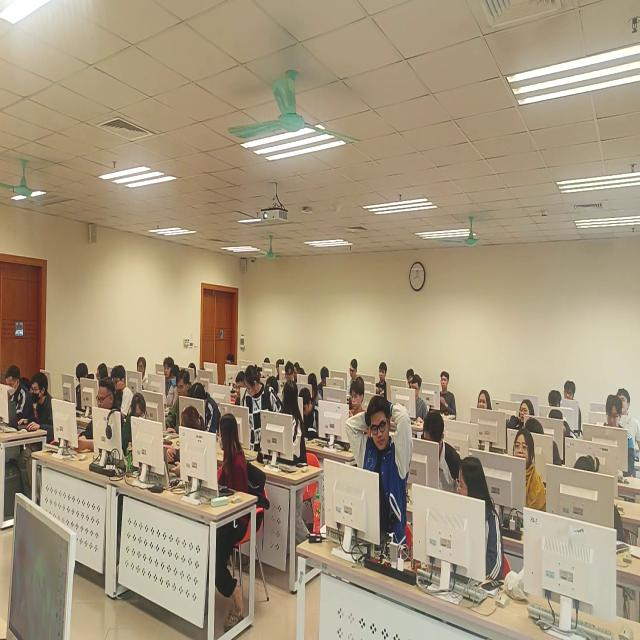raise_hand: (346, 394, 413, 557)
raise_head: (512, 431, 547, 513), (617, 387, 640, 455), (564, 378, 583, 438), (437, 371, 458, 417), (513, 400, 537, 429), (136, 357, 151, 386), (377, 361, 389, 396), (477, 391, 493, 413), (164, 355, 176, 378)
stand: (243, 364, 285, 450)
using_computer: (574, 452, 625, 543), (80, 380, 127, 457), (422, 408, 461, 494), (602, 394, 637, 479), (31, 372, 59, 447), (167, 369, 194, 429), (6, 367, 32, 428), (193, 382, 221, 434), (298, 388, 323, 440), (111, 366, 133, 415), (75, 360, 96, 411), (409, 377, 429, 426), (549, 410, 578, 441), (165, 365, 183, 408), (234, 372, 246, 407), (348, 358, 360, 389), (319, 365, 330, 394), (548, 390, 562, 408), (97, 363, 109, 384), (226, 351, 237, 371), (189, 361, 199, 381), (407, 368, 417, 387), (295, 362, 306, 378), (264, 356, 272, 366)
using_phone: (346, 379, 369, 419)
